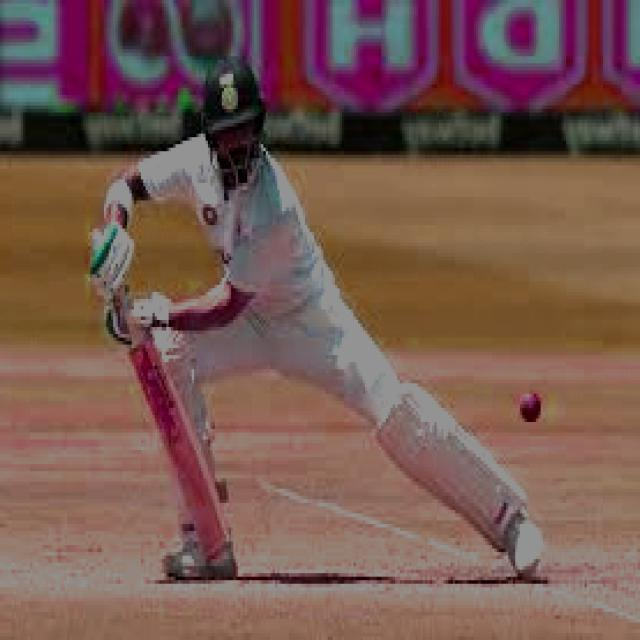toe: (192, 498, 232, 566)
